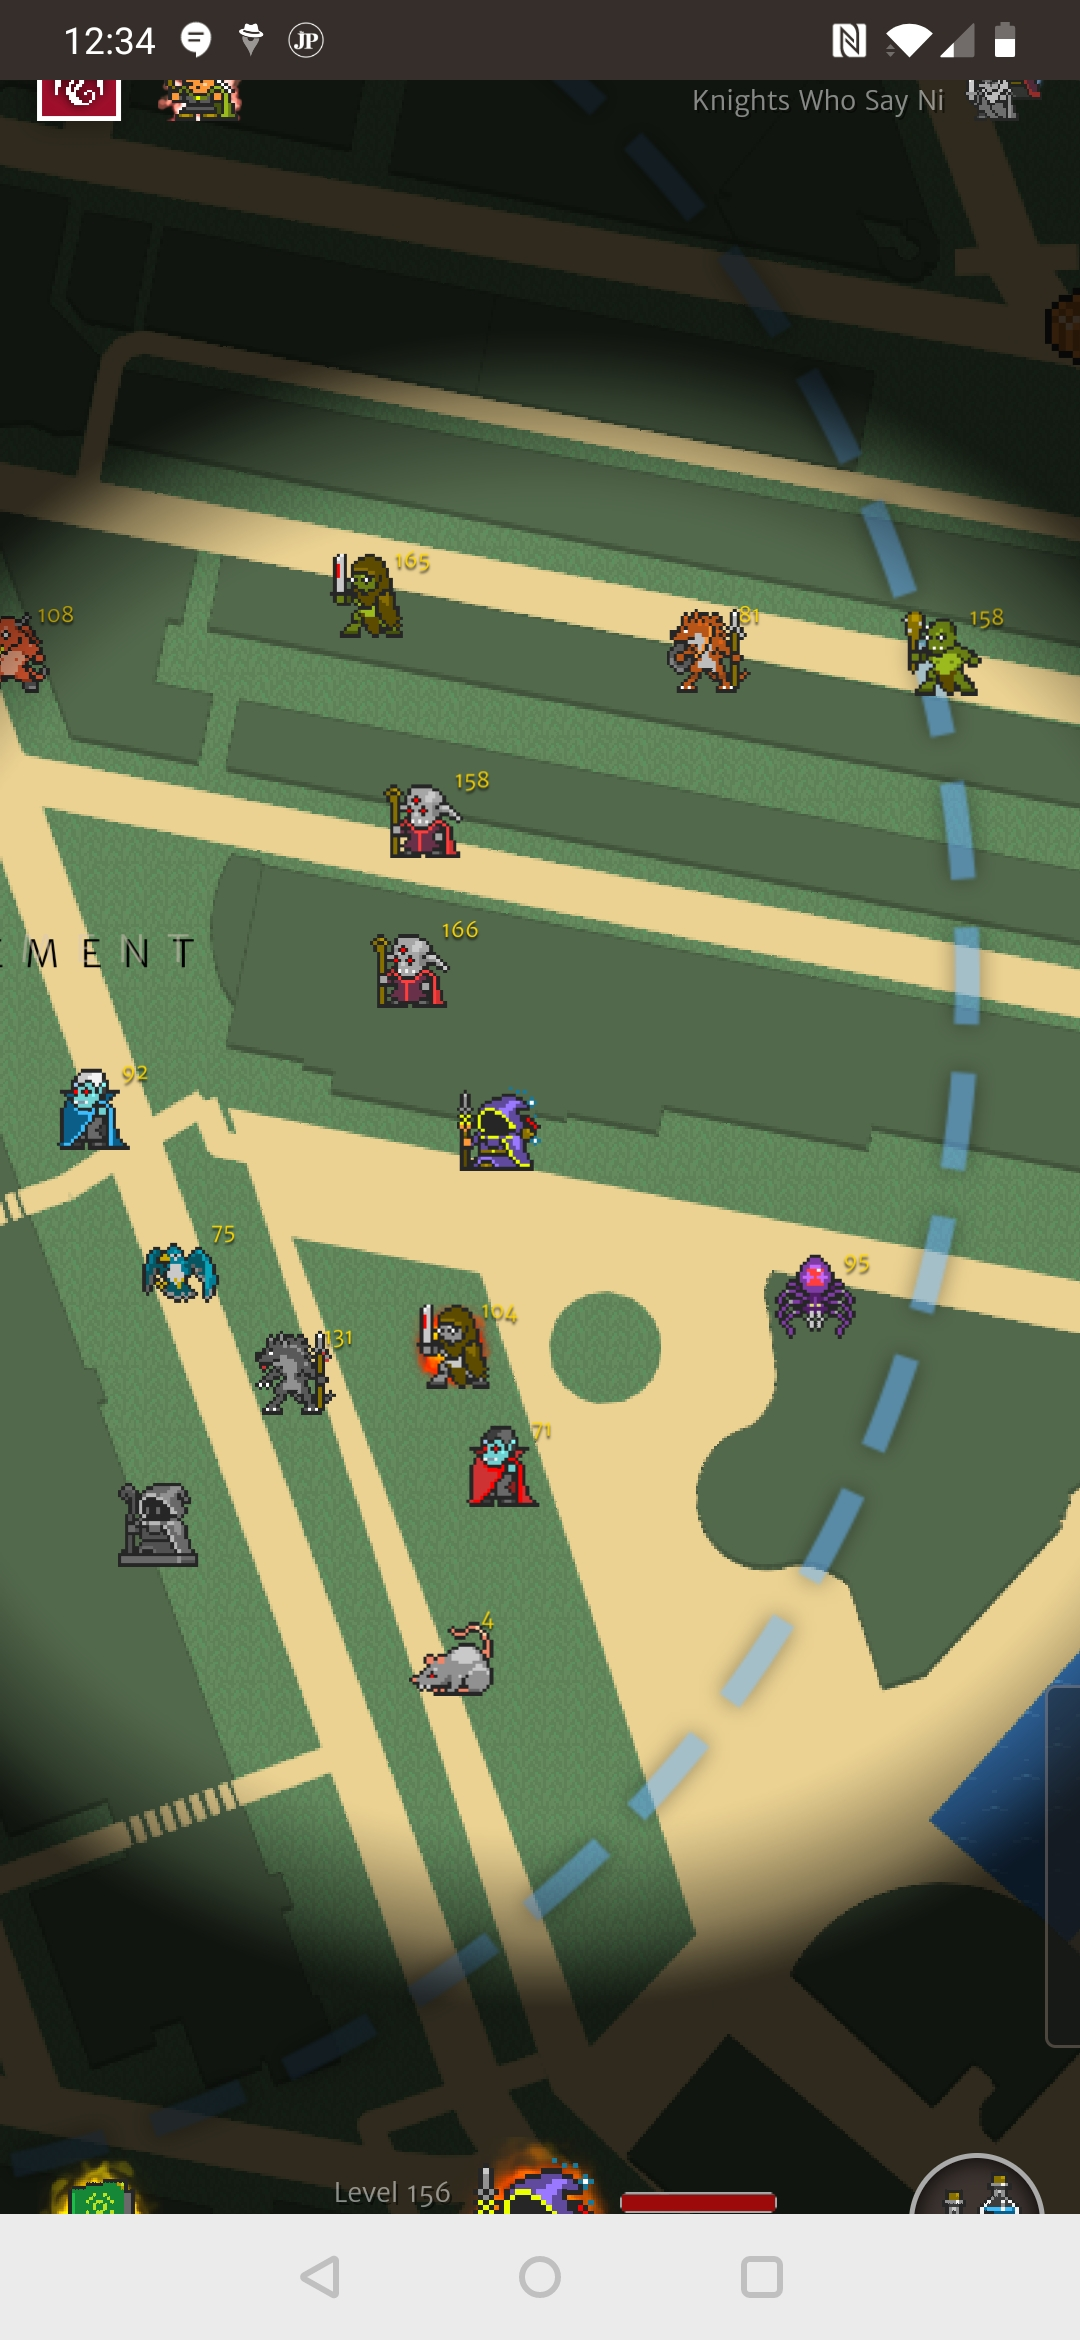monster: (885, 602, 1015, 725), (354, 912, 487, 1027), (364, 766, 505, 873), (756, 1243, 880, 1363), (441, 1407, 567, 1525), (128, 1214, 249, 1327), (387, 1604, 513, 1707), (300, 548, 436, 643), (662, 604, 769, 717), (49, 1061, 156, 1173), (241, 1325, 359, 1427), (415, 1302, 521, 1409)
player: (449, 1091, 546, 1186)
